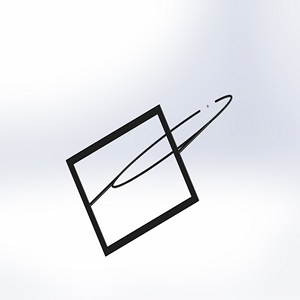circle: (63, 93, 235, 259)
